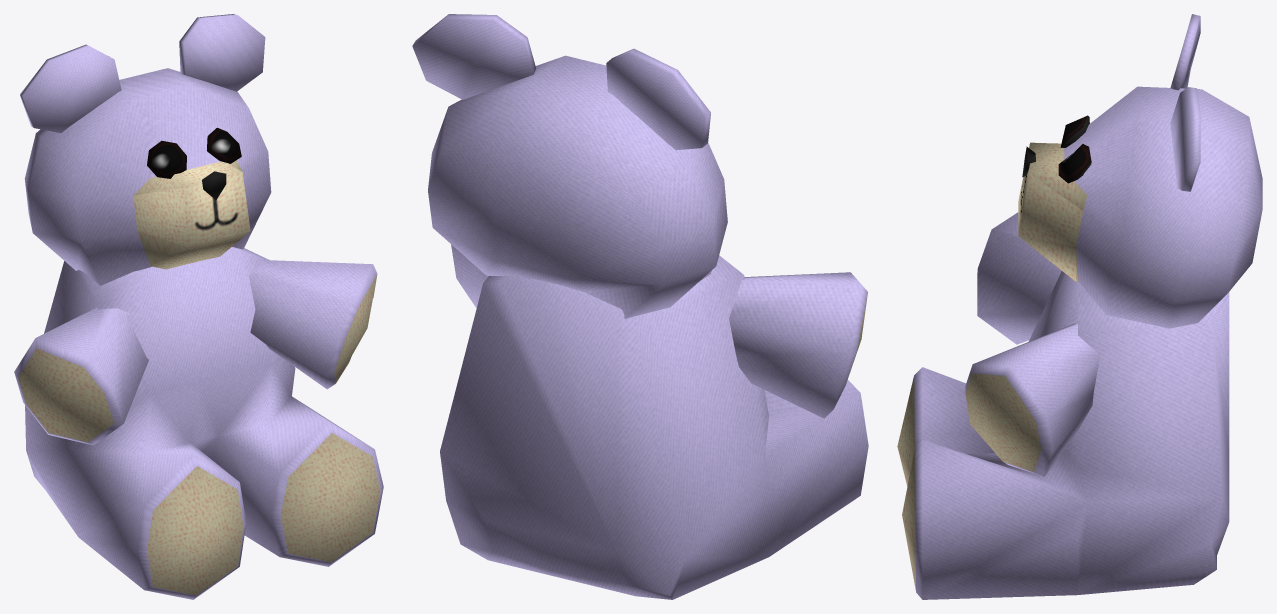
The model's file is Buddy_Bear_D.FBX.
3 renders of one model, left to right at view 1: azimuth 30°, elevation 25°; view 2: azimuth 150°, elevation 25°; view 3: azimuth 270°, elevation 25°, orthographic. The views are drawn at different scales.
Parts seen in each view (by area): view 1: Buddy_ Bear; view 2: Buddy_ Bear; view 3: Buddy_ Bear.
Part boxes in pixels (box(x1,y1,x2,y2)): Buddy_ Bear: box(14, 14, 383, 599); Buddy_ Bear: box(412, 14, 868, 599); Buddy_ Bear: box(897, 14, 1262, 599).
Bounding box in the file's own units: 55.36 × 71.18 × 46.3.
